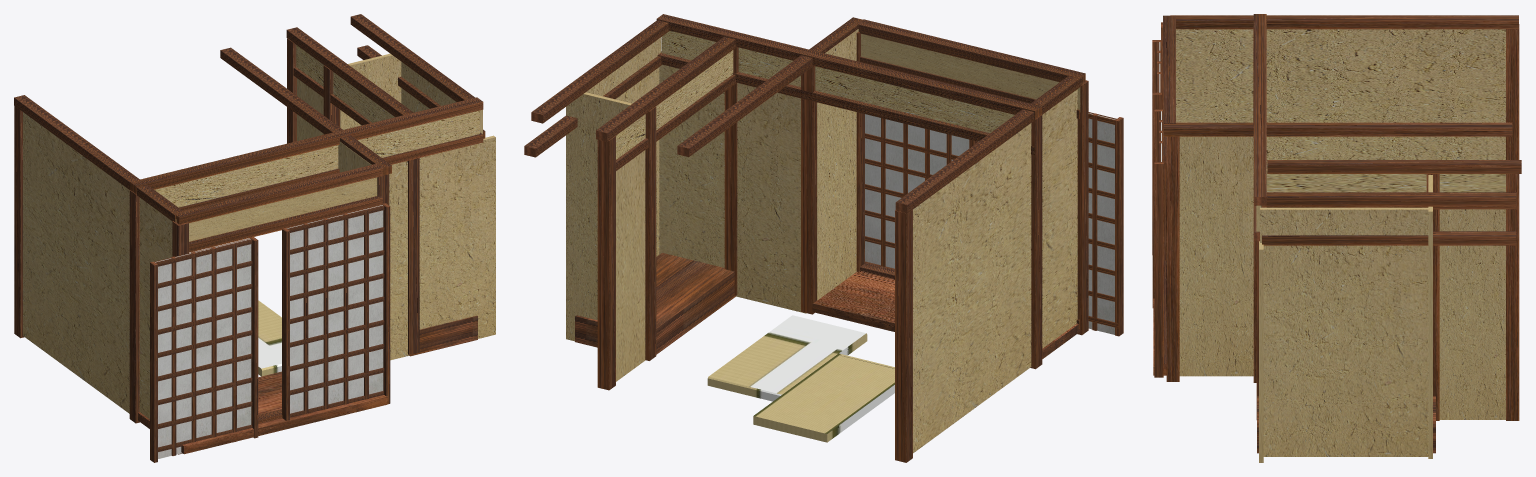
The model's file is quarto.glb.
3 renders of one model, left to right at view 1: azimuth 30°, elevation 25°; view 2: azimuth 150°, elevation 25°; view 3: azimuth 270°, elevation 25°, orthographic. The views are drawn at different scales.
Parts seen in each view (by area): view 1: Cube.006, Cube.012, Cube.020, Cube.025, Cube.044, Cube.034, Cube.043, Cube.041, Cube.047, Cube.046, Cube.048, Cube.035 (+19 smaller); view 2: Cube.006, Cube.025, Cube.020, Cube.012, Cube.039, Cube.026, Cube.004, Cube, Cube.028, Cube.009, Cube.044, Cube.010 (+22 smaller); view 3: Cube.027, Cube.006, Cube.039, Cube.028, Cube.048, Cube.046, Cube.036, Cube.049, Cube.045, Cube.008, Cube.010, Cube.037 (+12 smaller).
Part boxes in pixels (x1=…): Cube.006: x1=23, y1=112, x2=172, y2=419; Cube.012: x1=150, y1=237, x2=258, y2=462; Cube.020: x1=282, y1=203, x2=390, y2=420; Cube.025: x1=389, y1=135, x2=495, y2=360; Cube.044: x1=130, y1=97, x2=483, y2=194; Cube.034: x1=155, y1=145, x2=338, y2=207; Cube.043: x1=175, y1=177, x2=377, y2=241; Cube.041: x1=138, y1=371, x2=387, y2=454; Cube.047: x1=173, y1=163, x2=382, y2=224; Cube.046: x1=14, y1=95, x2=182, y2=222; Cube.048: x1=220, y1=47, x2=391, y2=175; Cube.035: x1=358, y1=110, x2=479, y2=157; Cube.006: x1=913, y1=89, x2=1077, y2=453; Cube.025: x1=659, y1=64, x2=806, y2=313; Cube.020: x1=865, y1=114, x2=977, y2=269; Cube.012: x1=1088, y1=112, x2=1123, y2=336; Cube.039: x1=817, y1=29, x2=858, y2=300; Cube.026: x1=566, y1=92, x2=632, y2=341; Cube.004: x1=753, y1=353, x2=894, y2=442; Cube: x1=707, y1=315, x2=867, y2=401; Cube.028: x1=616, y1=150, x2=645, y2=381; Cube.009: x1=575, y1=252, x2=735, y2=354; Cube.044: x1=656, y1=14, x2=1041, y2=119; Cube.010: x1=597, y1=136, x2=615, y2=390; Cube.027: x1=1260, y1=207, x2=1429, y2=456; Cube.006: x1=1176, y1=29, x2=1505, y2=168; Cube.039: x1=1179, y1=136, x2=1253, y2=376; Cube.028: x1=1439, y1=209, x2=1505, y2=419; Cube.048: x1=1163, y1=122, x2=1512, y2=136; Cube.046: x1=1170, y1=15, x2=1518, y2=29; Cube.036: x1=1266, y1=169, x2=1505, y2=192; Cube.049: x1=1262, y1=192, x2=1516, y2=206; Cube.045: x1=1267, y1=160, x2=1521, y2=173; Cube.008: x1=1166, y1=136, x2=1179, y2=381; Cube.010: x1=1506, y1=174, x2=1519, y2=420; Cube.037: x1=1262, y1=231, x2=1516, y2=245.
Size of the model in its own units: 10.36 by 6.06 by 7.84.
6 materials, 6 textured.
